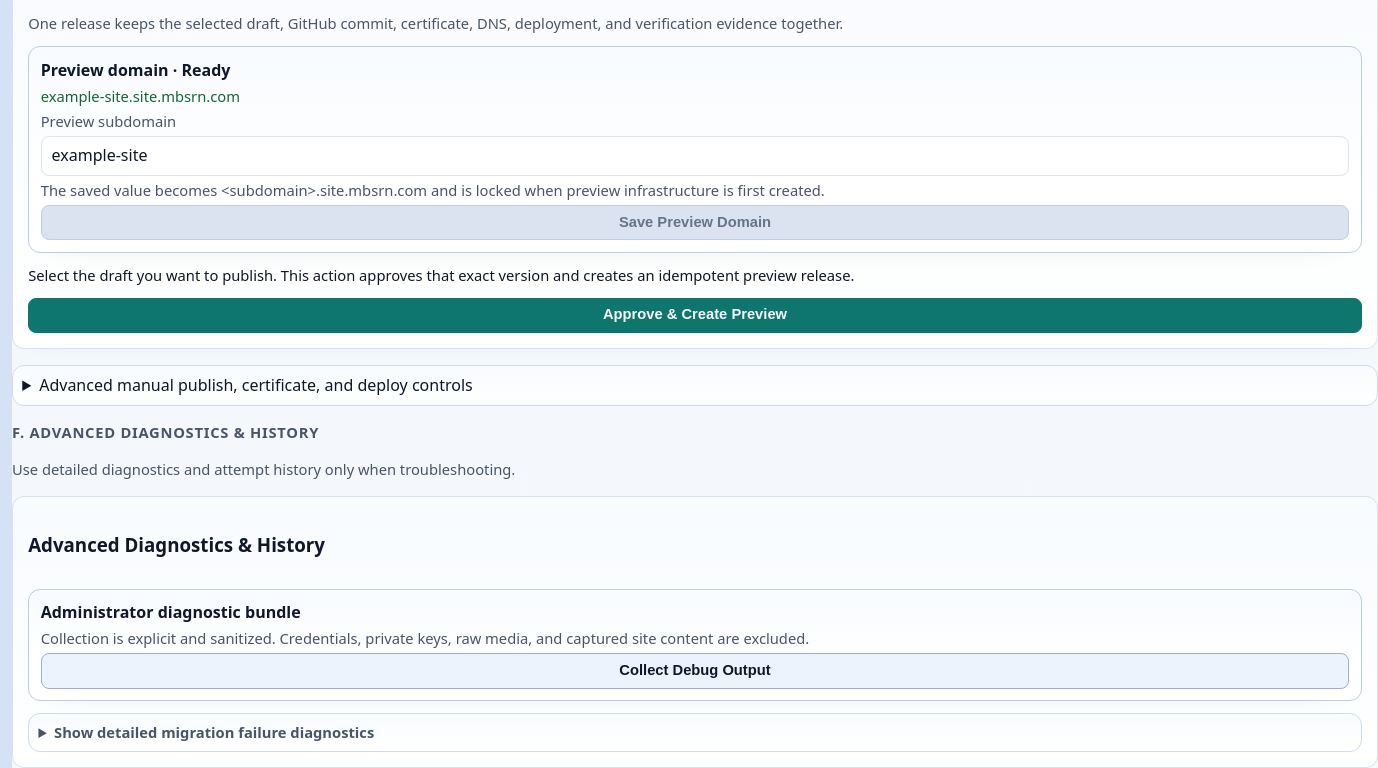
Test: site migration workflow route › shows diagnostic collection failures beside the collection control
(page scrolled)
Click the button "Collect Debug Output" at (695, 671), box [41, 653, 1349, 688]
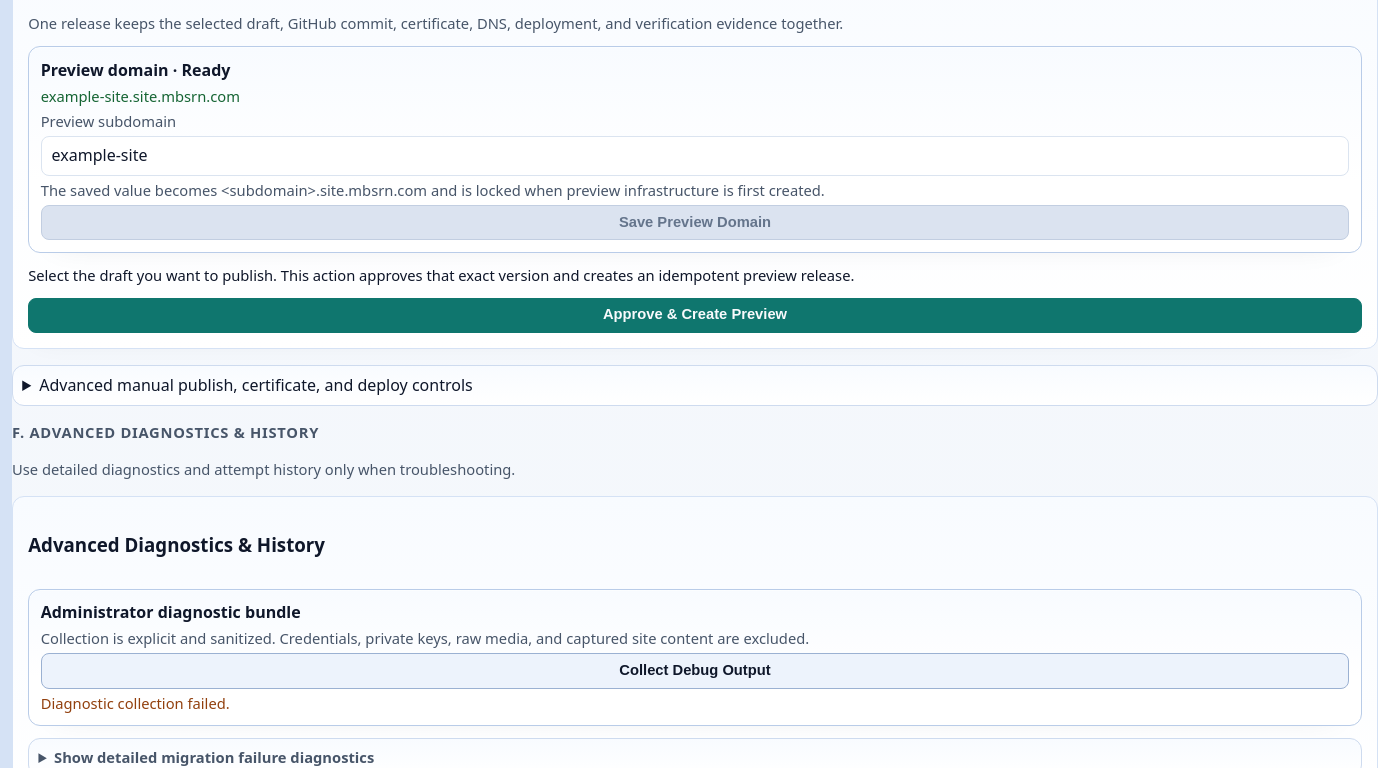
Check: the message reads "Diagnostic collection failed.", box [41, 692, 230, 712]
